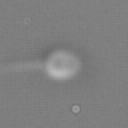normal: (1, 57, 47, 81)
